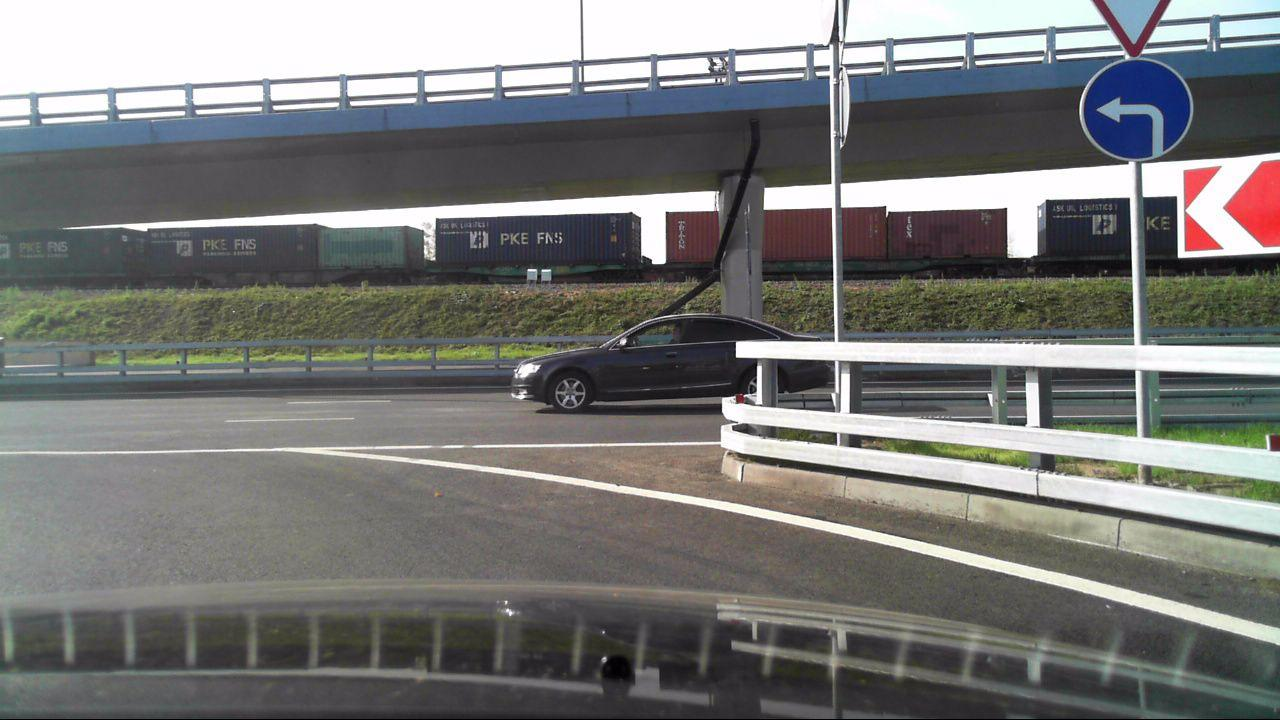1_34_2: (1178, 153, 1280, 256)
2_4: (1088, 0, 1175, 56)
4_1_3: (1082, 60, 1192, 162)
